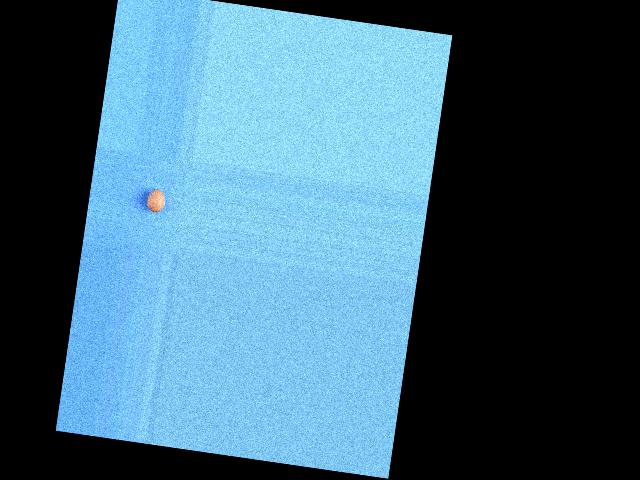egg: (144, 188, 166, 213)
